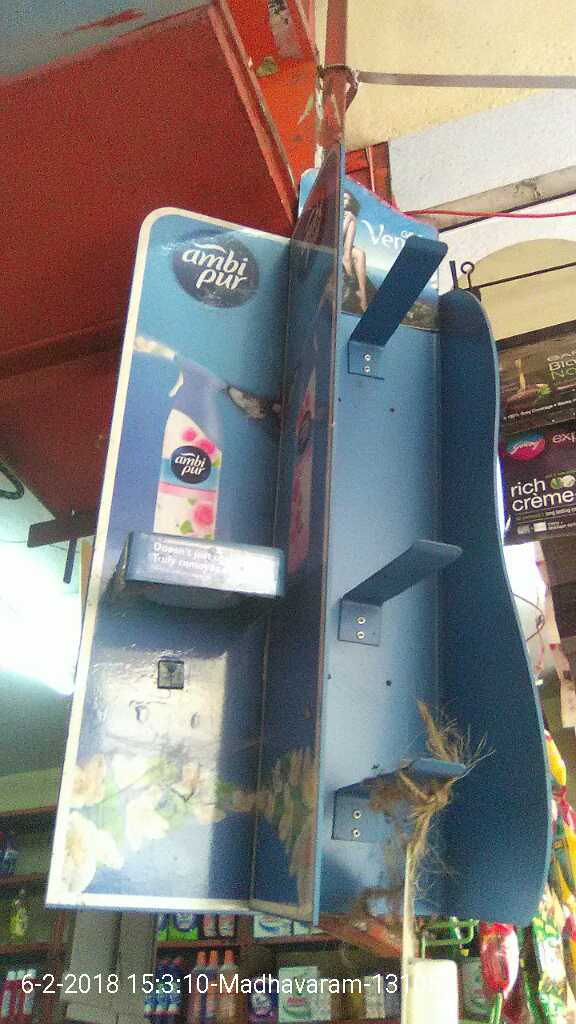reject: (186, 386, 264, 475)
